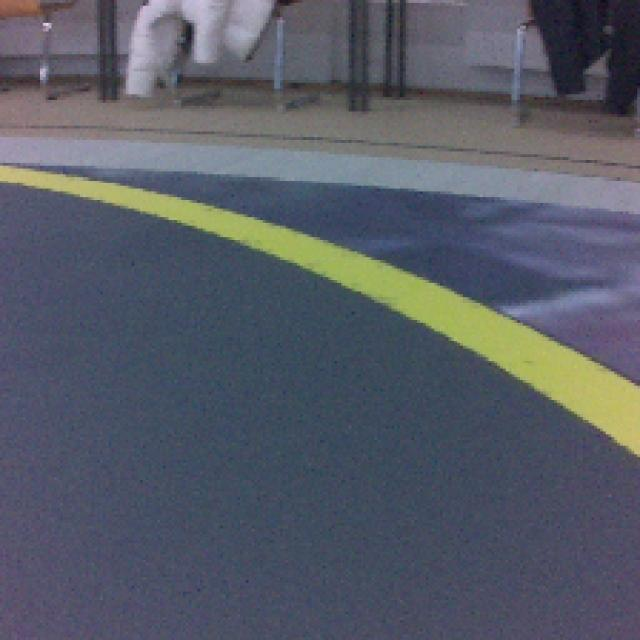Pedestrian crosswalk: (3, 166, 640, 454)
